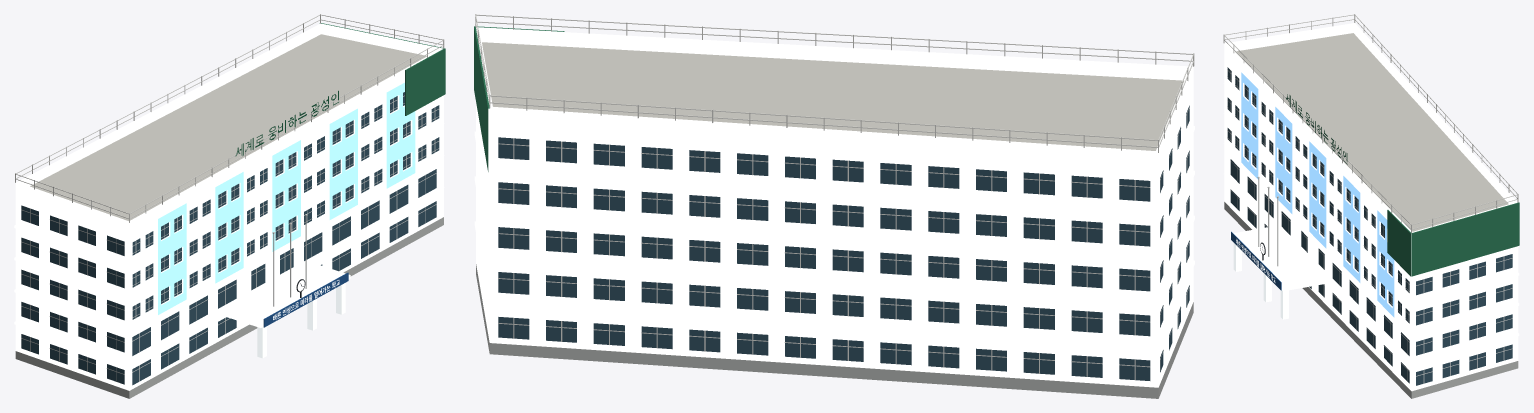
3 renders of one model, left to right at view 1: azimuth 30°, elevation 25°; view 2: azimuth 150°, elevation 25°; view 3: azimuth 270°, elevation 25°, orthographic. The views are drawn at different scales.
Visible parts, largest first — view 1: main__wall-plaster, main__roof, main__glass, main__trim-concrete, main__accent-blue, main__frame, main__canopy-white, main__roof-railing, main__base-stone, main__east-end-green, main__canopy-column, main__plaque-blue (+2 smaller); view 2: main__wall-plaster, main__glass, main__roof, main__trim-concrete, main__base-stone, main__frame, main__roof-railing, main__east-end-green; view 3: main__roof, main__wall-plaster, main__trim-concrete, main__glass, main__accent-blue, main__east-end-green, main__canopy-white, main__roof-railing, main__frame, main__base-stone, main__canopy-column, main__plaque-blue (+2 smaller).
Part boxes in pixels (bbox=[...]): main__wall-plaster: bbox=[15, 70, 443, 390]; main__roof: bbox=[30, 34, 426, 220]; main__glass: bbox=[21, 92, 439, 385]; main__trim-concrete: bbox=[14, 23, 444, 388]; main__accent-blue: bbox=[158, 82, 415, 314]; main__frame: bbox=[21, 95, 439, 381]; main__canopy-white: bbox=[218, 261, 350, 327]; main__roof-railing: bbox=[15, 14, 444, 222]; main__base-stone: bbox=[15, 217, 443, 398]; main__east-end-green: bbox=[319, 23, 445, 115]; main__canopy-column: bbox=[257, 283, 345, 358]; main__plaque-blue: bbox=[263, 272, 348, 327]; main__wall-plaster: bbox=[476, 67, 1193, 387]; main__glass: bbox=[498, 105, 1189, 380]; main__roof: bbox=[482, 42, 1183, 150]; main__trim-concrete: bbox=[474, 27, 1194, 382]; main__base-stone: bbox=[476, 264, 1193, 398]; main__frame: bbox=[498, 107, 1189, 380]; main__roof-railing: bbox=[475, 14, 1194, 152]; main__east-end-green: bbox=[474, 26, 564, 171]; main__roof: bbox=[1235, 33, 1508, 231]; main__wall-plaster: bbox=[1224, 44, 1518, 391]; main__trim-concrete: bbox=[1223, 23, 1519, 388]; main__glass: bbox=[1227, 67, 1512, 385]; main__accent-blue: bbox=[1241, 72, 1394, 317]; main__east-end-green: bbox=[1387, 202, 1519, 276]; main__canopy-white: bbox=[1230, 225, 1330, 291]; main__roof-railing: bbox=[1223, 14, 1518, 233]; main__frame: bbox=[1227, 70, 1512, 383]; main__base-stone: bbox=[1224, 202, 1518, 398]; main__canopy-column: bbox=[1233, 243, 1288, 319]; main__plaque-blue: bbox=[1231, 231, 1281, 290].
Bounding box in the file's own units: 54.06 × 21.68 × 32.04.
